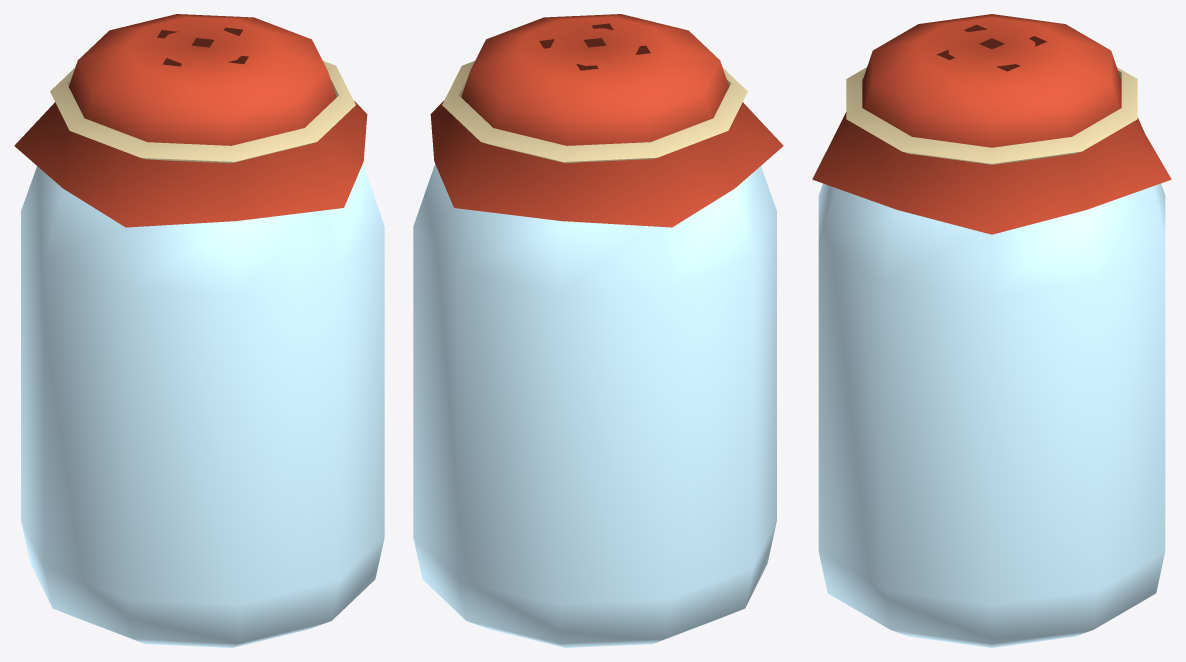
The model's file is glass-jar.glb.
The picture shows the model from 3 angles, left to right: view 1: azimuth 30°, elevation 25°; view 2: azimuth 150°, elevation 25°; view 3: azimuth 270°, elevation 25°; orthographic projection.
Visible parts, largest first — view 1: glass_jar; view 2: glass_jar; view 3: glass_jar.
Part boxes in pixels (x1,y1,x2,y2): glass_jar: (14, 14, 384, 647); glass_jar: (413, 14, 783, 647); glass_jar: (812, 14, 1171, 647).
Size of the model in its own units: 0.0785 by 0.1269 by 0.076.
